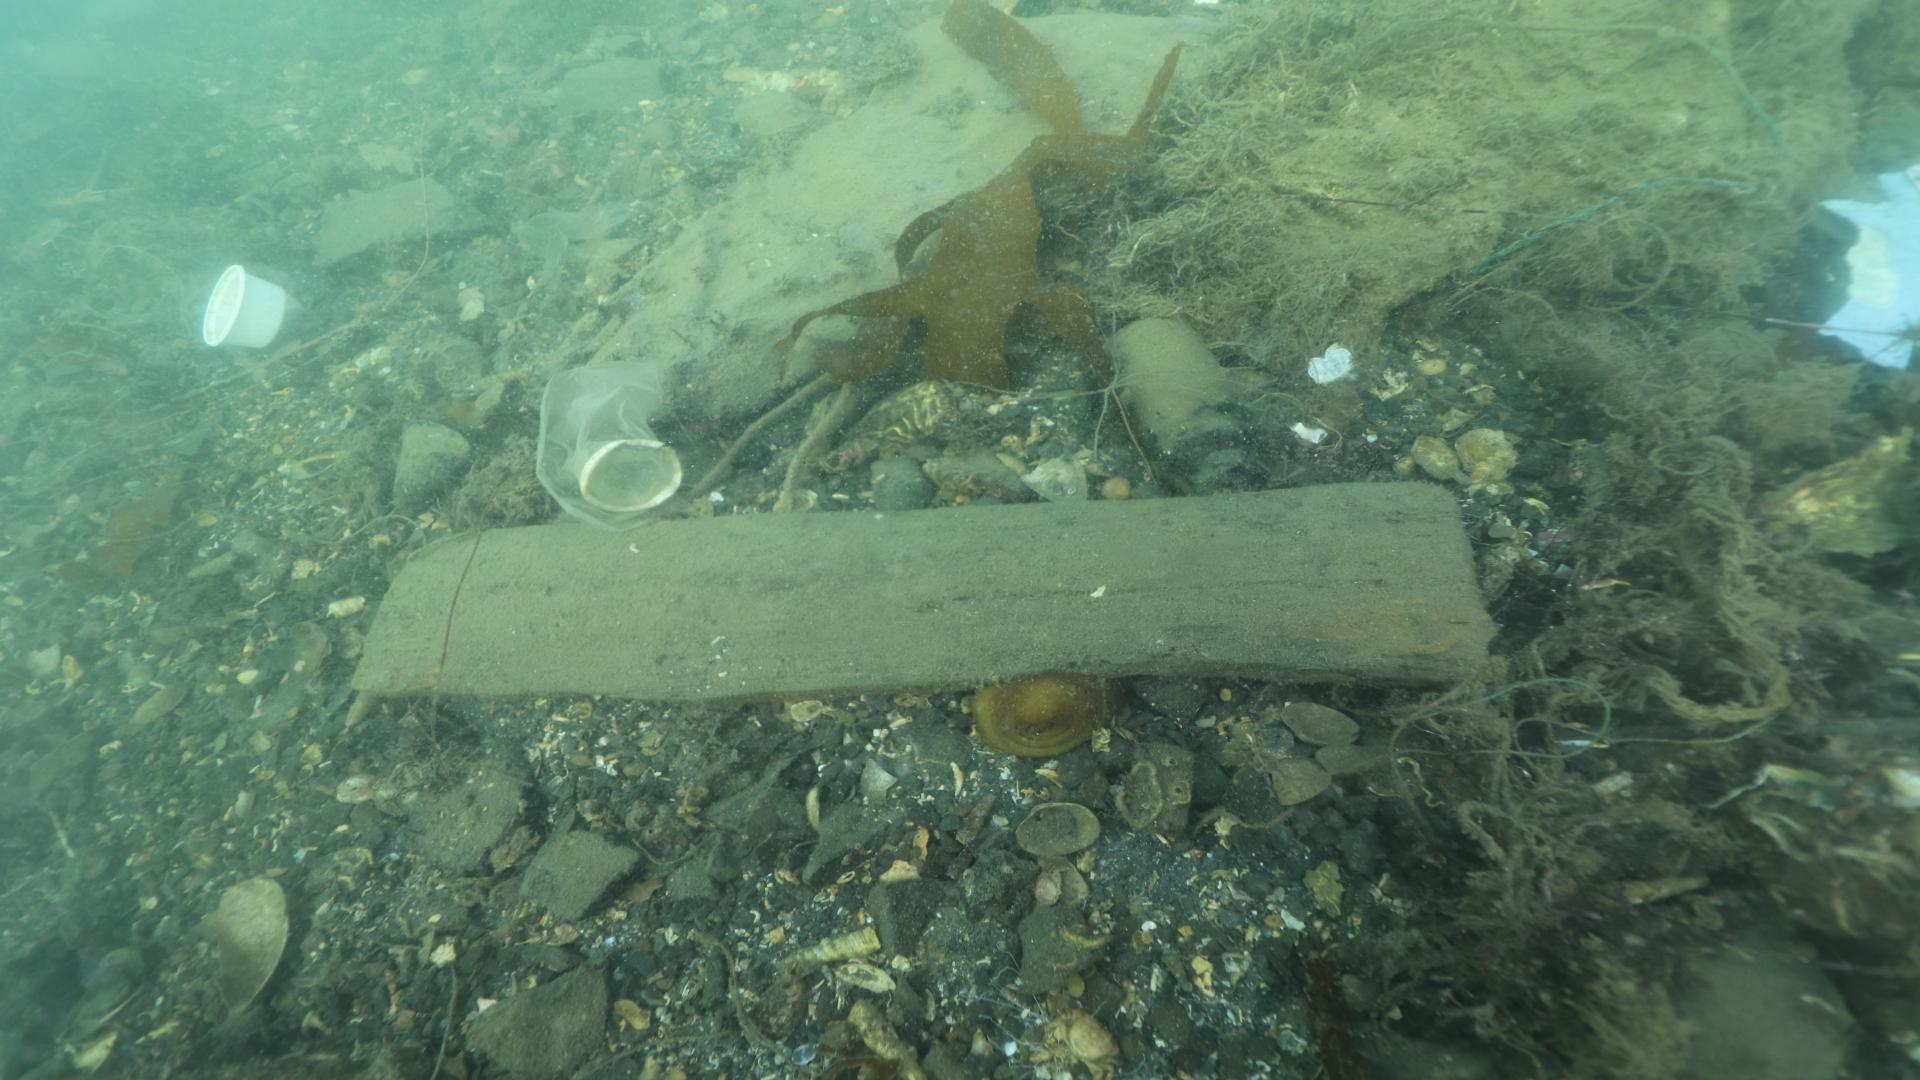wood: (342, 476, 1506, 709)
